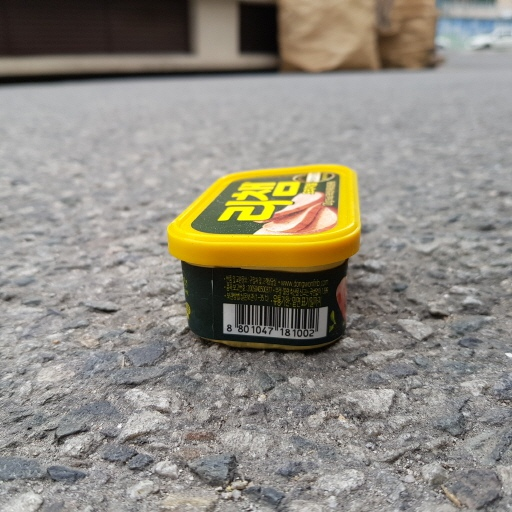Metal_2: (167, 164, 361, 355)
